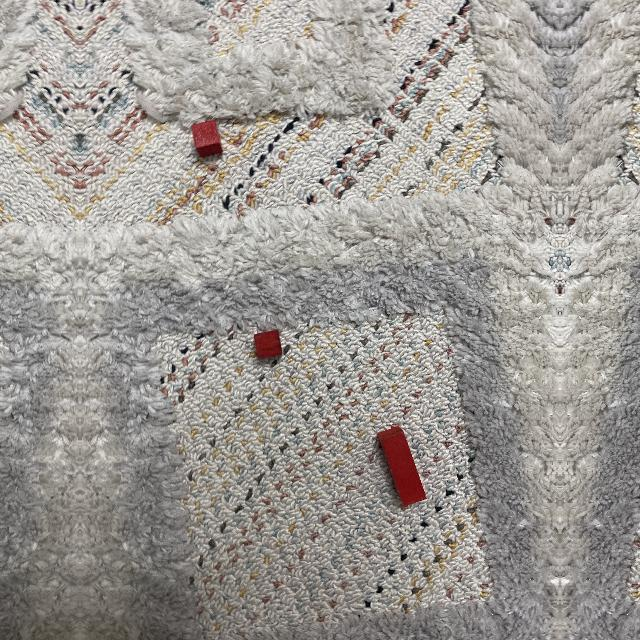red block: (377, 427, 428, 509)
red cube: (191, 122, 221, 154), (254, 332, 284, 356)
